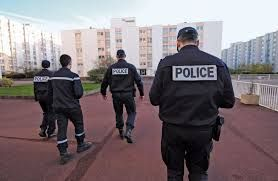uniform: (153, 58, 223, 167), (48, 69, 82, 146), (106, 62, 140, 131), (26, 67, 52, 126)
